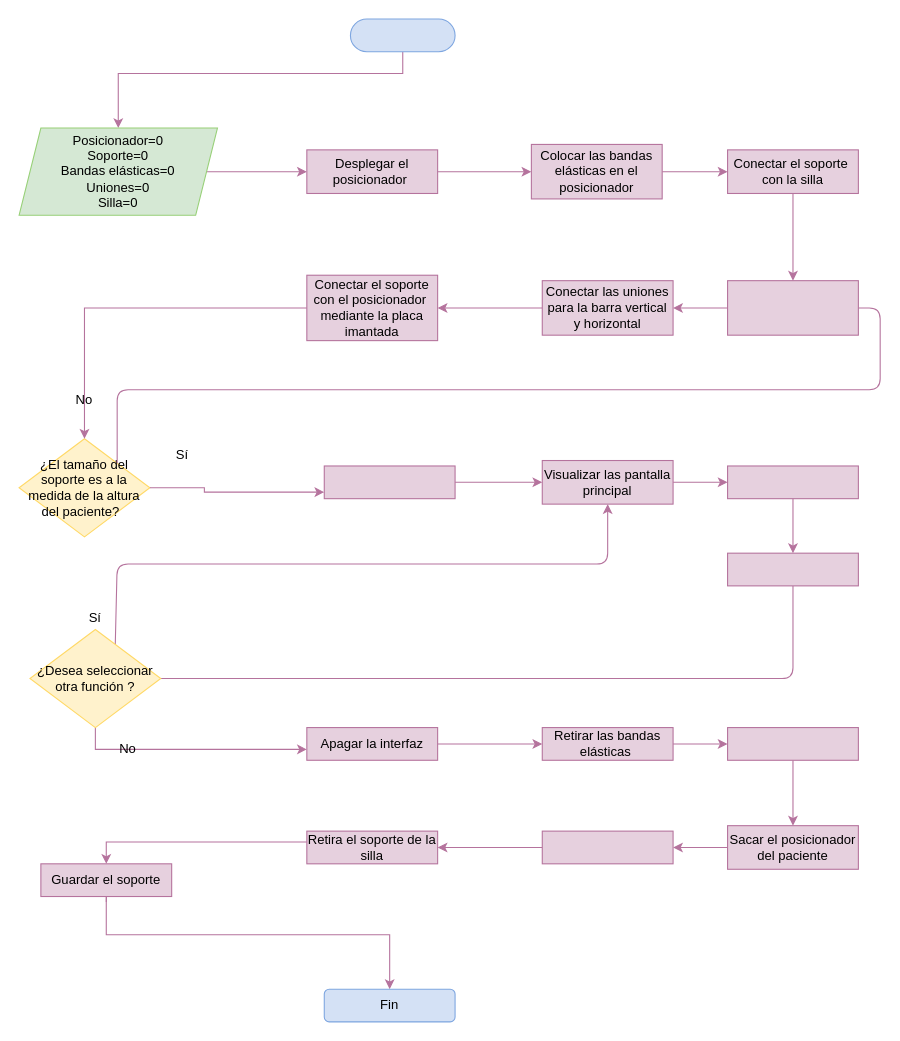
The diagram is 900 pixels wide and 1041 high, and some of its shapes have lost their labels. Here are the shapes that lost their labels. From the top down, the centre of each, then its label:
At (402,35): "Inicio".
At (792,307): "Ajustar la altura del soporte".
At (389,482): "Encender la pantalla".
At (792,482): "Seleccionar una función".
At (792,569): "Mostrar selección".
At (792,743): "Retirar las placas imantadas".
At (607,847): "Guardar el posicionador".
